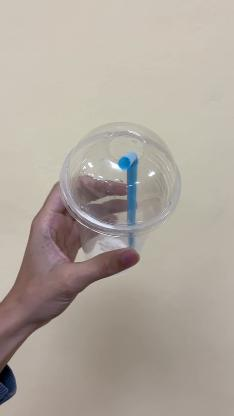Plastic Cup: (60, 119, 183, 275)
